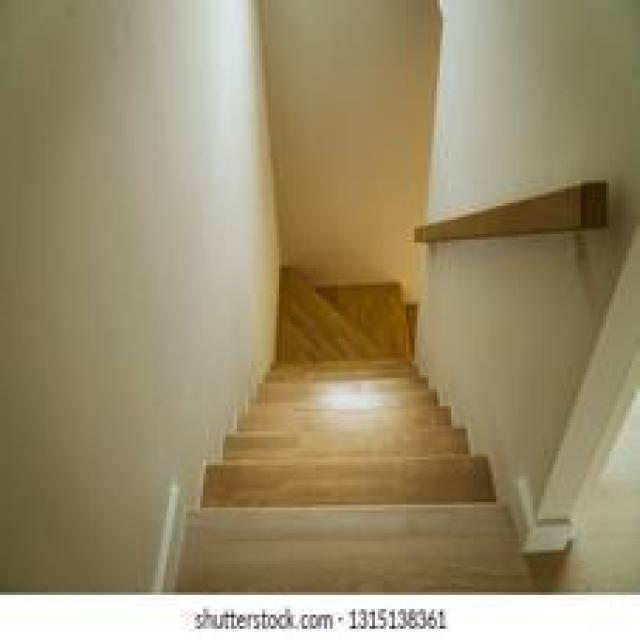downstair: (187, 342, 497, 523)
